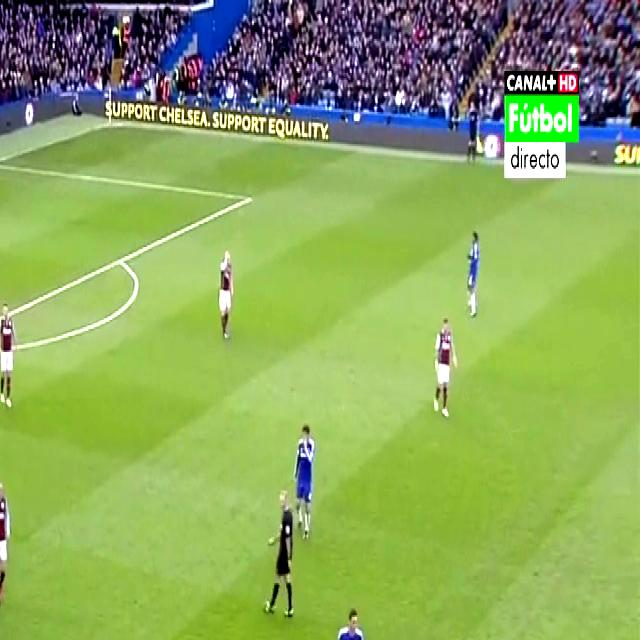referee: (263, 485, 301, 624), (464, 93, 482, 164)
soccer-player: (287, 410, 319, 536), (430, 312, 460, 428), (214, 238, 240, 344), (460, 219, 485, 322), (322, 594, 373, 640), (0, 293, 18, 418), (0, 469, 14, 615)
